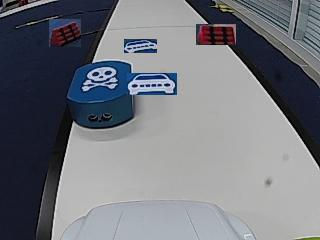danger: (82, 67, 116, 91)
